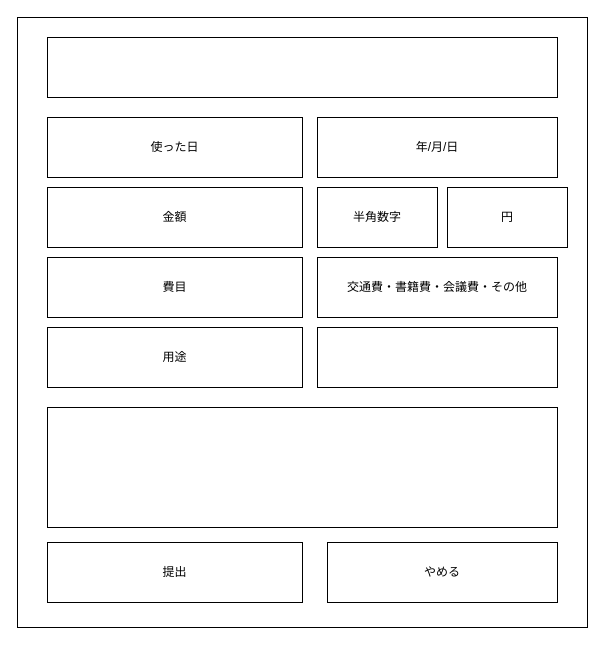
Some shapes in this 605 by 645 pixel diagram are drawn without their labels. Each missing label, with the centre of its shape:
"差し戻しの理由（差し戻された申請書を書き直す場合のみ）" belongs at pixel 302 467.
"申請書を作成する" belongs at pixel 302 67.
